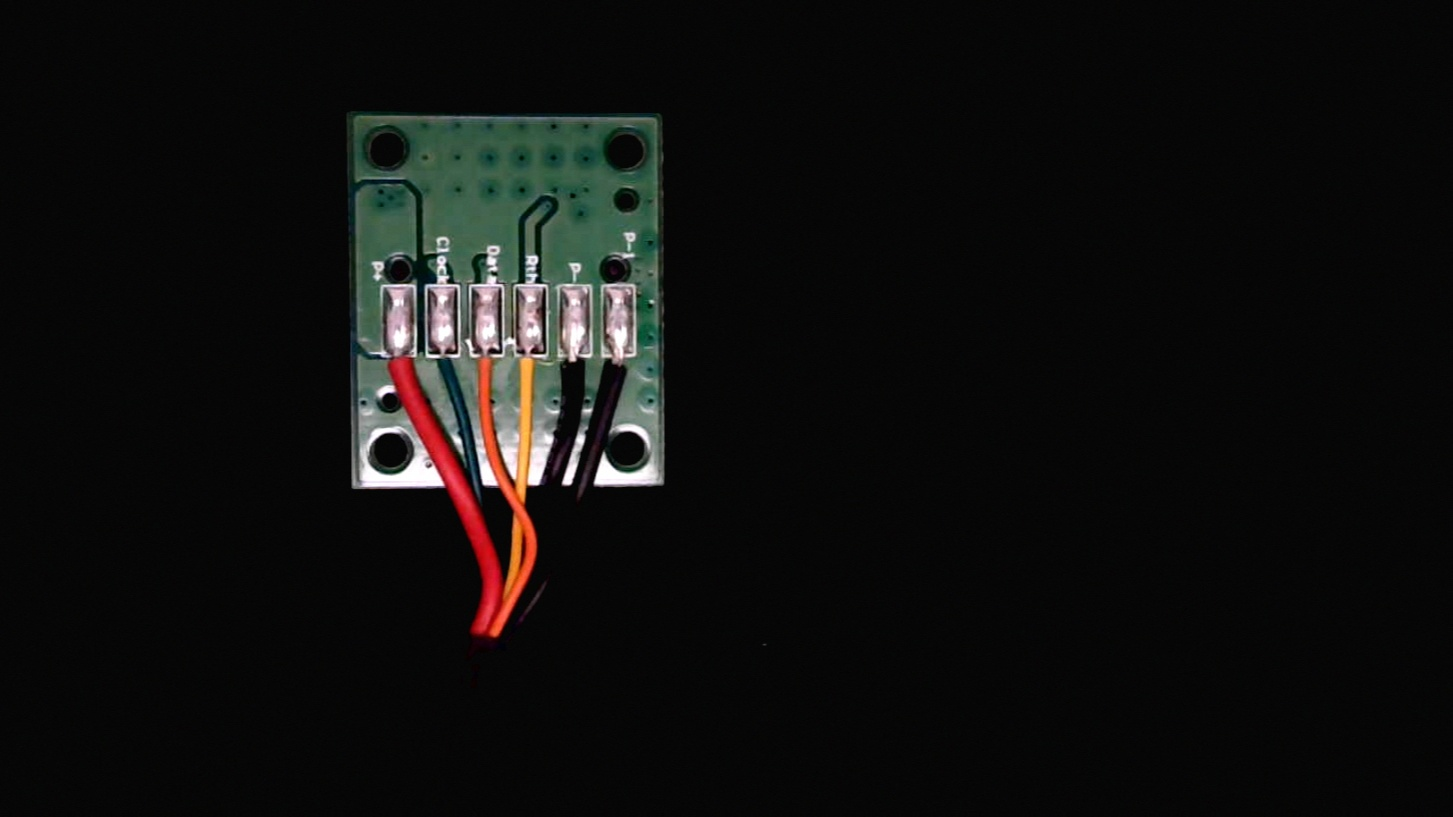Black: (557, 336, 600, 423)
Black1: (605, 337, 642, 406)
Green: (427, 339, 469, 409)
Orange: (470, 339, 508, 408)
Red: (384, 338, 422, 409)
Yellow: (514, 339, 554, 408)
